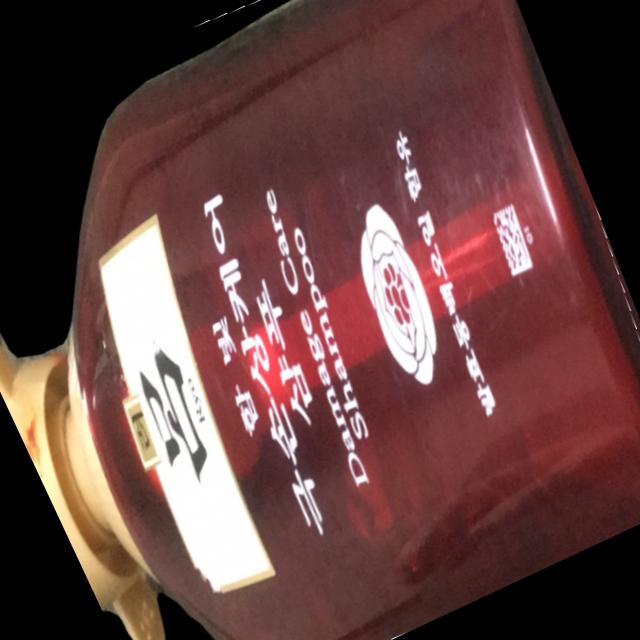plastic: (0, 0, 640, 640)
